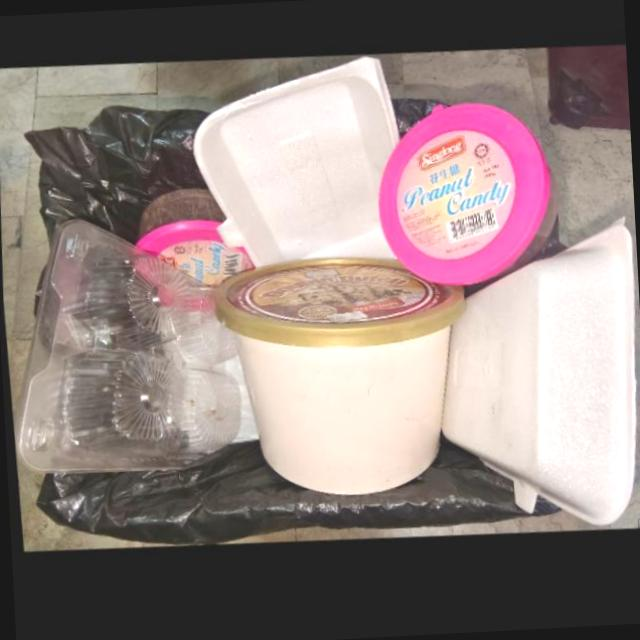hop_nhua: (212, 264, 466, 502), (14, 228, 241, 483), (376, 106, 556, 290), (134, 195, 254, 294)
xop: (440, 218, 638, 529), (191, 61, 399, 275)
